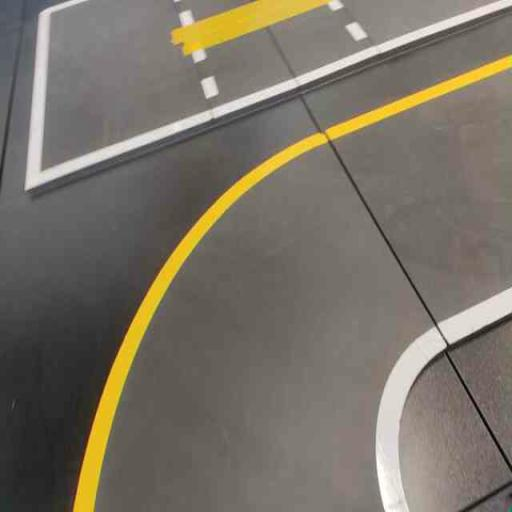right: (73, 92, 511, 511)
